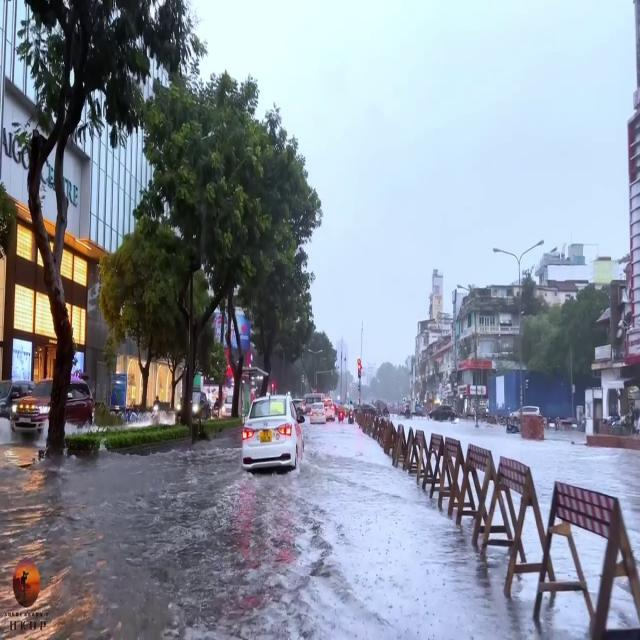bien_vang: (256, 424, 276, 448)
